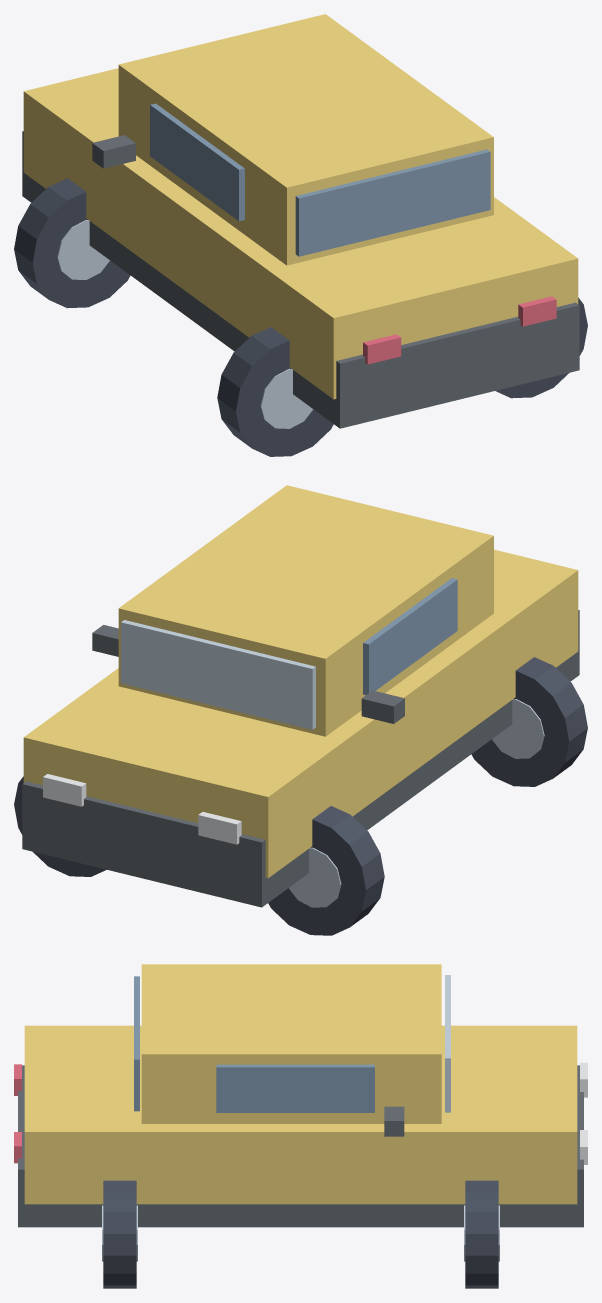
The model's file is auto_urbano.glb.
3 renders of one model, top to bottom at view 1: azimuth 30°, elevation 25°; view 2: azimuth 150°, elevation 25°; view 3: azimuth 270°, elevation 25°, orthographic. The views are drawn at different scales.
Visible parts, largest first — view 1: Body_2, Cab_3, Chassis_1, RearWindow_5, Wheel_9, Wheel_7, SideGlass_6, Hubcap_8, Hubcap_10, Wheel_17, SideMirror_11, TailLight_13 (+1 smaller); view 2: Body_2, Cab_3, Chassis_1, Windshield_4, Wheel_9, Wheel_7, SideGlass_6, Hubcap_10, Hubcap_8, Wheel_15, SideMirror_11, Headlight_12 (+2 smaller); view 3: Body_2, Cab_3, Chassis_1, SideGlass_14, Wheel_15, Wheel_17, Windshield_4, RearWindow_5, SideMirror_19.
Boxes of the visible parts, bbox=[...] form: Body_2: bbox=[23, 68, 578, 399]; Cab_3: bbox=[118, 14, 493, 265]; Chassis_1: bbox=[22, 131, 579, 428]; RearWindow_5: bbox=[295, 149, 490, 256]; Wheel_9: bbox=[217, 327, 333, 456]; Wheel_7: bbox=[14, 178, 130, 308]; SideGlass_6: bbox=[150, 103, 244, 221]; Hubcap_8: bbox=[57, 220, 109, 279]; Hubcap_10: bbox=[260, 368, 313, 428]; Wheel_17: bbox=[496, 297, 587, 398]; SideMirror_11: bbox=[92, 135, 135, 168]; TailLight_13: bbox=[363, 334, 401, 364]; Body_2: bbox=[23, 549, 578, 878]; Cab_3: bbox=[118, 485, 493, 736]; Chassis_1: bbox=[22, 610, 579, 907]; Windshield_4: bbox=[121, 620, 315, 729]; Wheel_9: bbox=[471, 657, 587, 786]; Wheel_7: bbox=[268, 806, 384, 935]; SideGlass_6: bbox=[363, 578, 457, 694]; Hubcap_10: bbox=[492, 699, 544, 758]; Hubcap_8: bbox=[289, 847, 341, 907]; Wheel_15: bbox=[14, 776, 106, 876]; SideMirror_11: bbox=[361, 690, 404, 723]; Headlight_12: bbox=[198, 812, 241, 844]; Body_2: bbox=[24, 1025, 577, 1204]; Cab_3: bbox=[141, 964, 441, 1123]; Chassis_1: bbox=[18, 1065, 583, 1227]; SideGlass_14: bbox=[216, 1064, 374, 1112]; Wheel_15: bbox=[465, 1180, 498, 1288]; Wheel_17: bbox=[103, 1180, 136, 1288]; Windshield_4: bbox=[445, 975, 450, 1112]; RearWindow_5: bbox=[134, 976, 139, 1111]; SideMirror_19: bbox=[384, 1106, 404, 1136].
Bounding box in the file's own units: 2.72 × 1.84 × 4.31.
